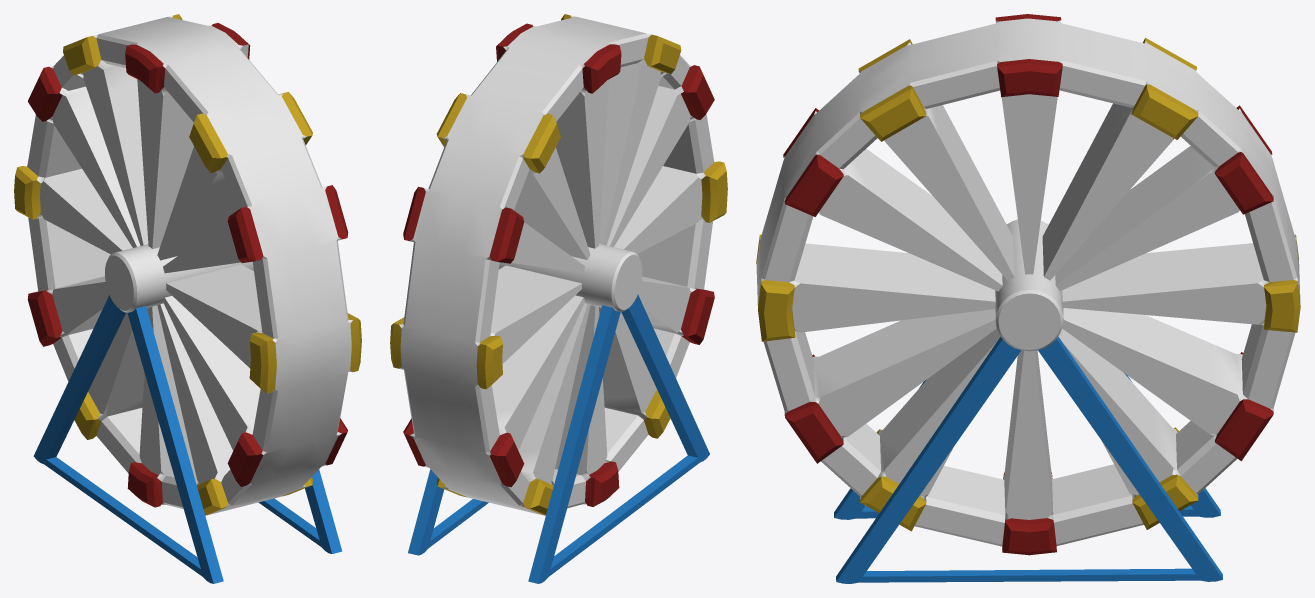
File: Ferris Wheel Textured.FBX
3 renders of one model, left to right at view 1: azimuth 30°, elevation 25°; view 2: azimuth 150°, elevation 25°; view 3: azimuth 270°, elevation 25°, orthographic. The views are drawn at different scales.
Visible parts, largest first — view 1: Ferris Wheel; view 2: Ferris Wheel; view 3: Ferris Wheel.
Boxes of the visible parts, box(x1,y1,x2,y2) form: Ferris Wheel: box(14, 14, 361, 583); Ferris Wheel: box(390, 14, 727, 583); Ferris Wheel: box(756, 14, 1300, 583).
Bounding box in the file's own units: 18.4 × 58.6 × 56.73.
4 materials, 4 textured.
